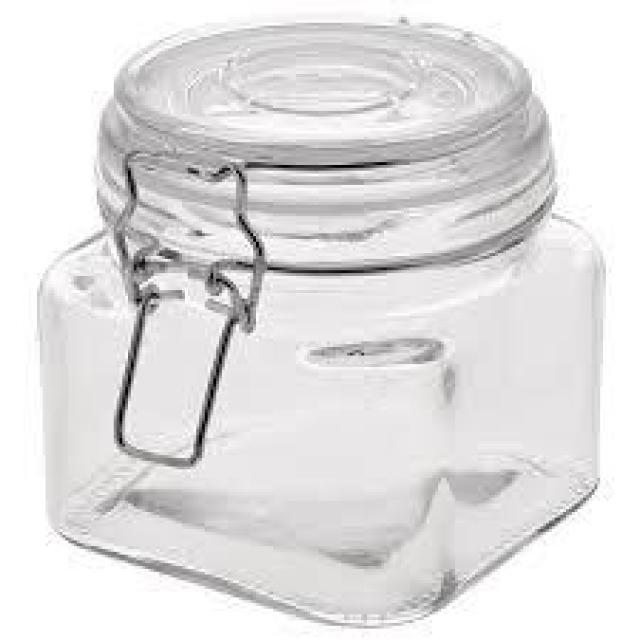Glass: (36, 14, 608, 632)
